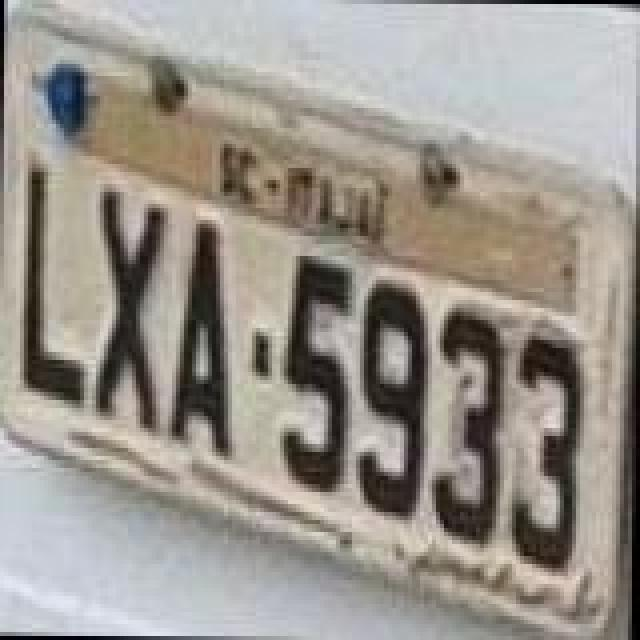3: (428, 304, 508, 548), (508, 338, 588, 574)
5: (280, 254, 356, 498)
9: (352, 280, 432, 524)
A: (172, 216, 240, 460)
L: (20, 158, 88, 410)
X: (90, 182, 170, 434)
